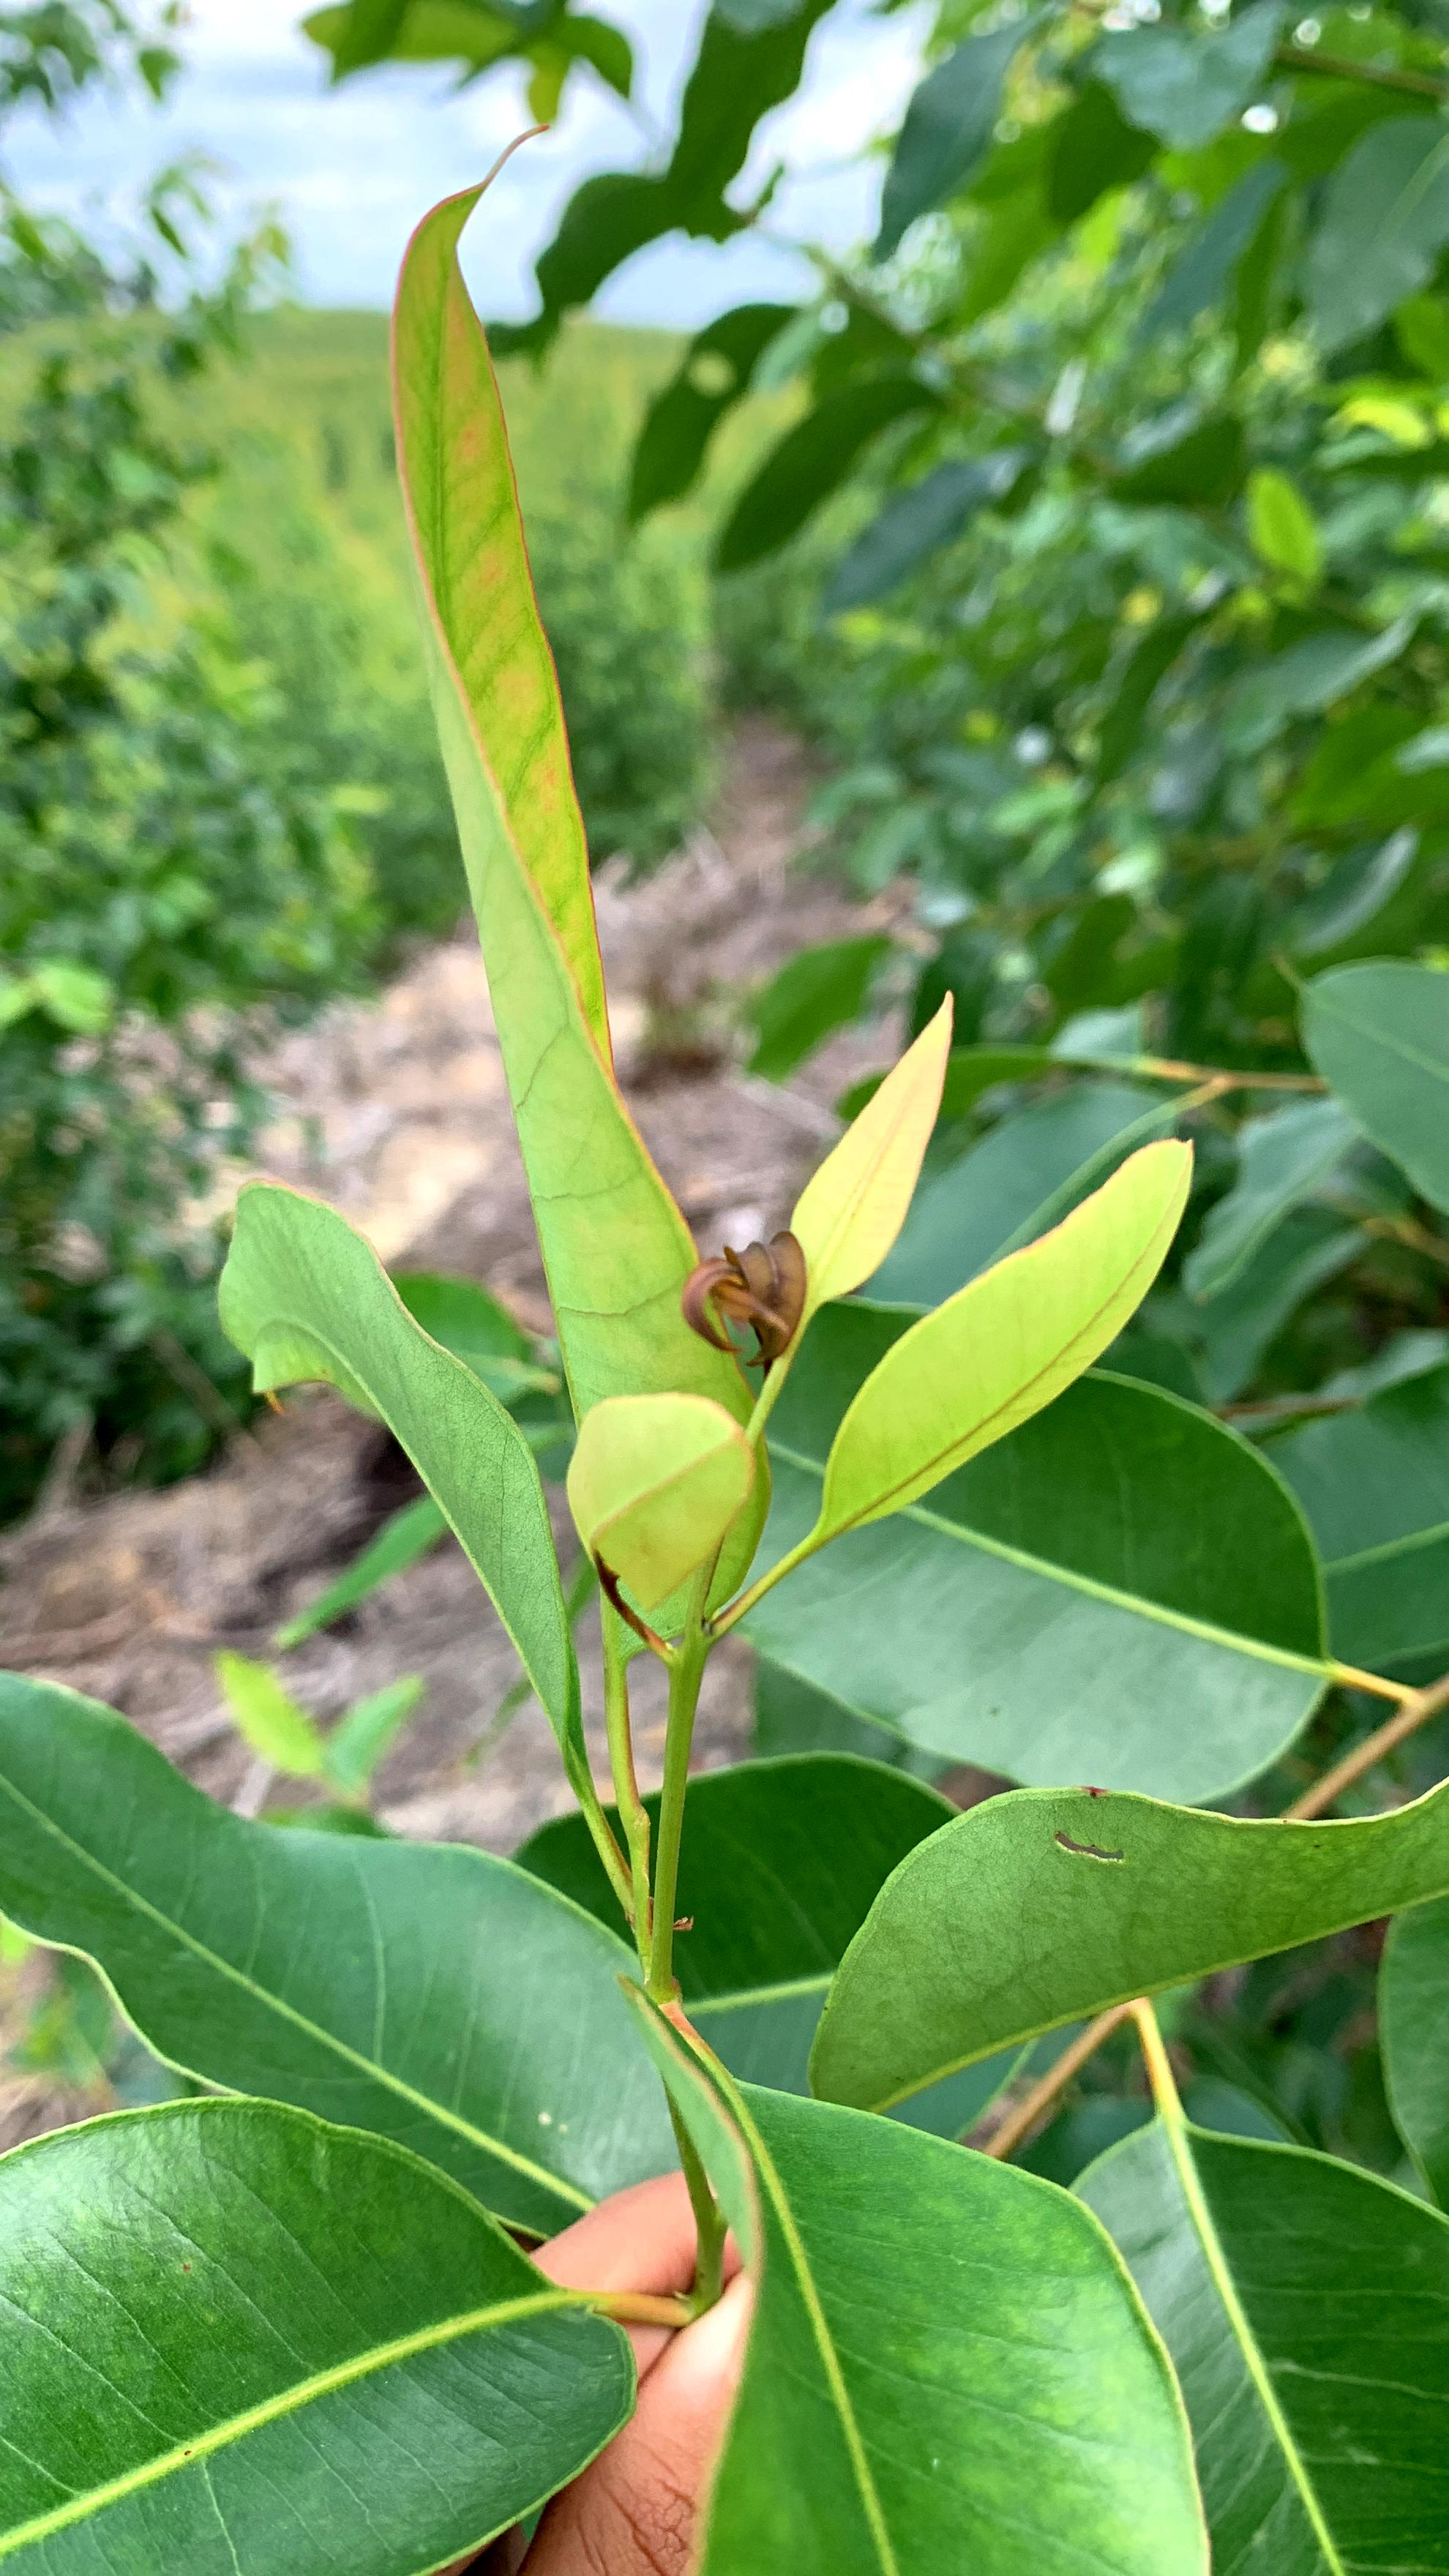Helopeltis-Withered Sprout: (659, 1227, 843, 1375)
